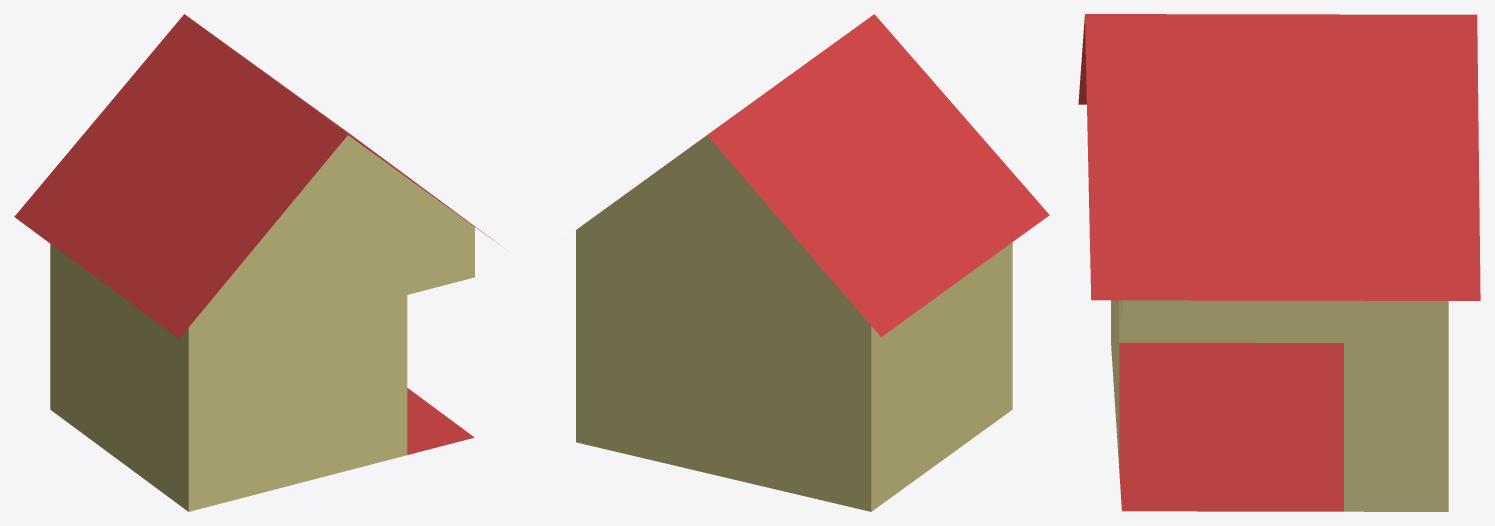
3 views of the same model, side by side, from view 1: azimuth 30°, elevation 25°; view 2: azimuth 150°, elevation 25°; view 3: azimuth 270°, elevation 25° (orthographic). The views are drawn at different scales.
Bounding box in the file's own units: 11.01 × 9.53 × 10.85.
